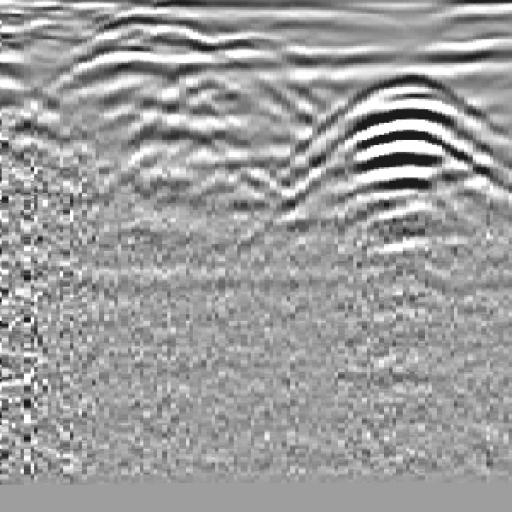metalic: (278, 68, 512, 209)
